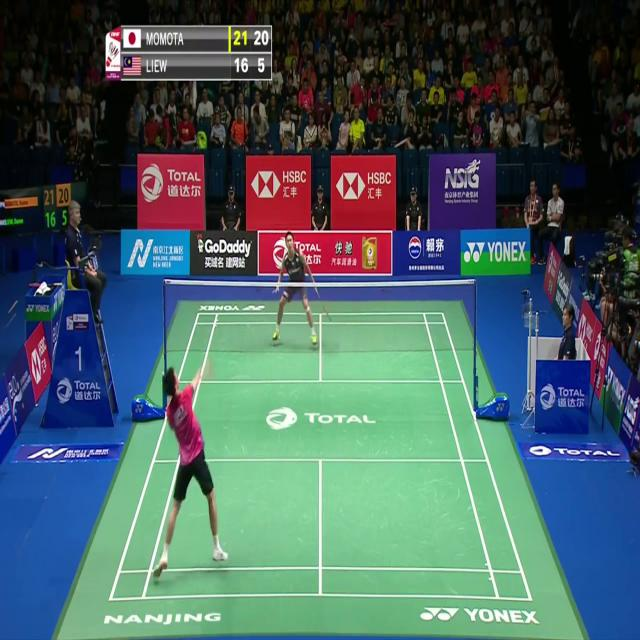Shuttlecock: (191, 85, 198, 96)
